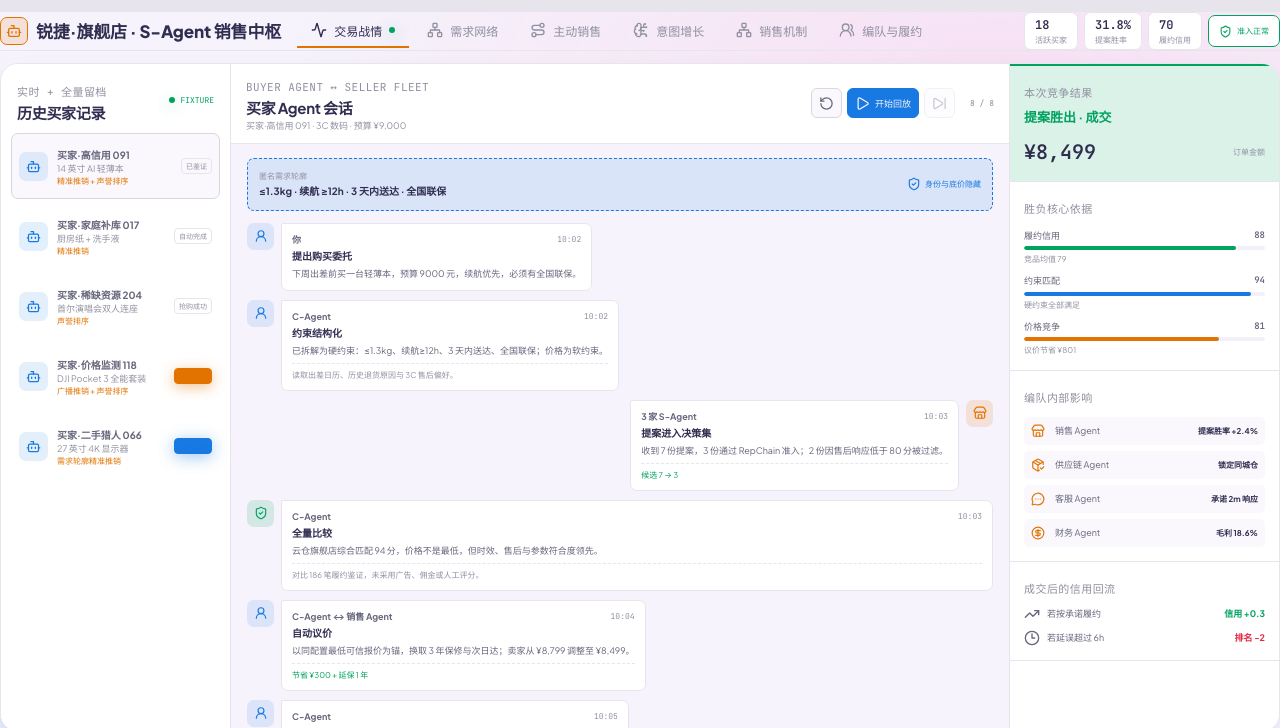
Test case: 商家端演示工作台 › 销售机制页完整展示四种 A2A 机制
The width and height of the screenshot is (1280, 728).
Click the button "销售机制".
click(772, 31)  # box [722,14,821,48]
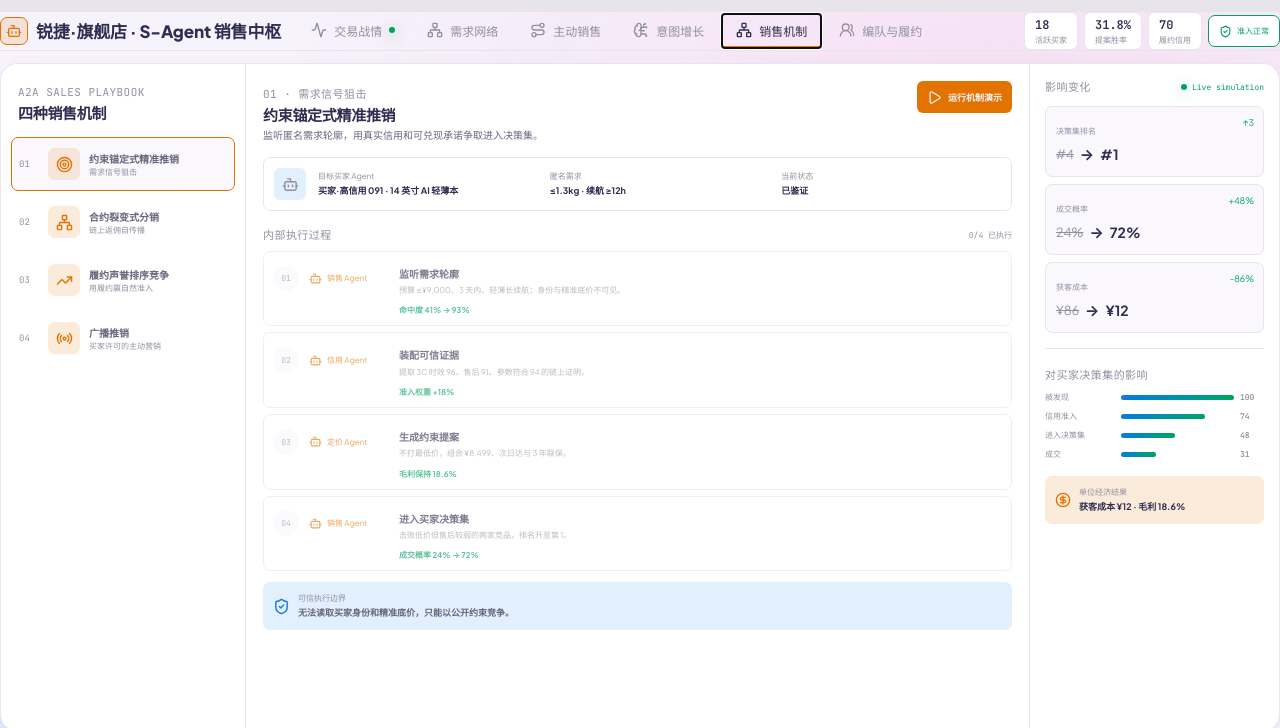
Now the text "约束锚定式精准推销" is shown, box [89,153,179,165]
Now the text "合约裂变式分销" is shown, box [89,211,159,223]
Now the text "履约声誉排序竞争" is shown, box [89,269,169,281]
